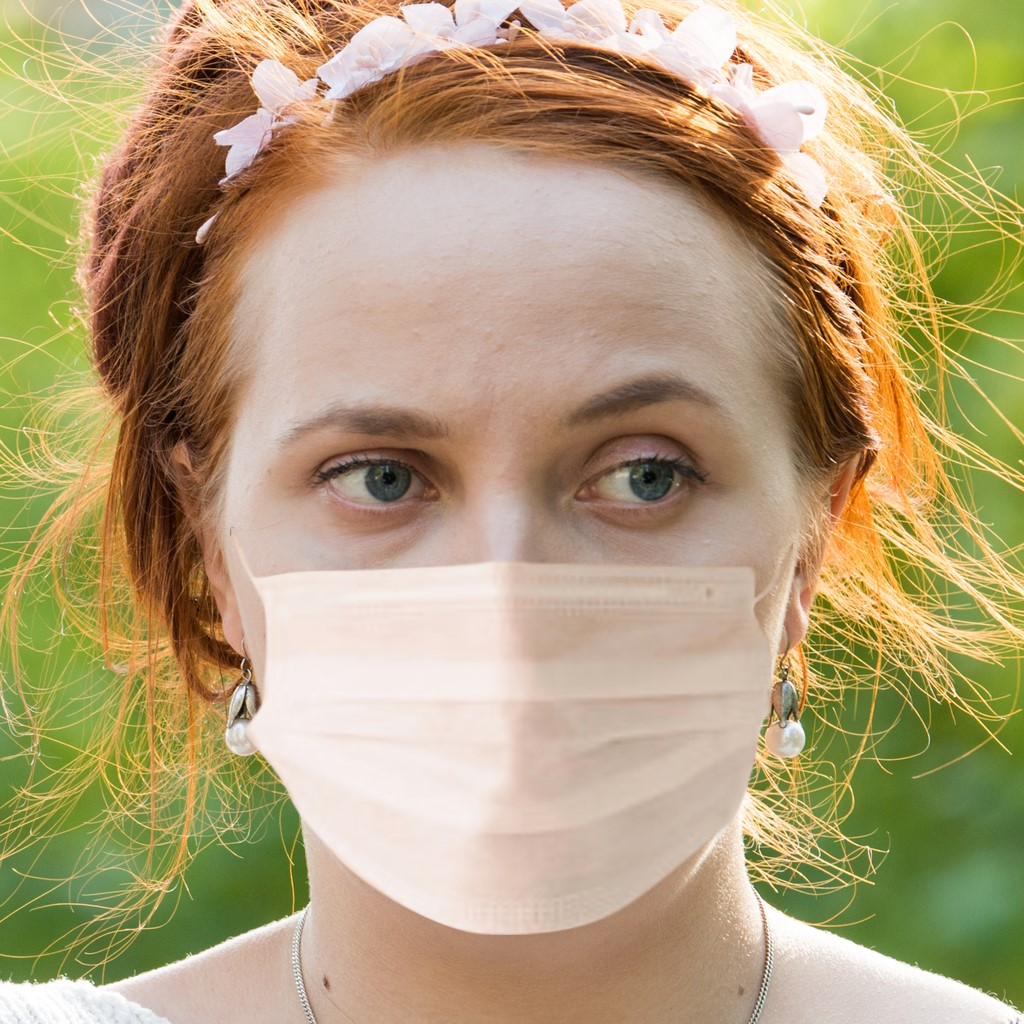con_mascara: (169, 118, 819, 936)
